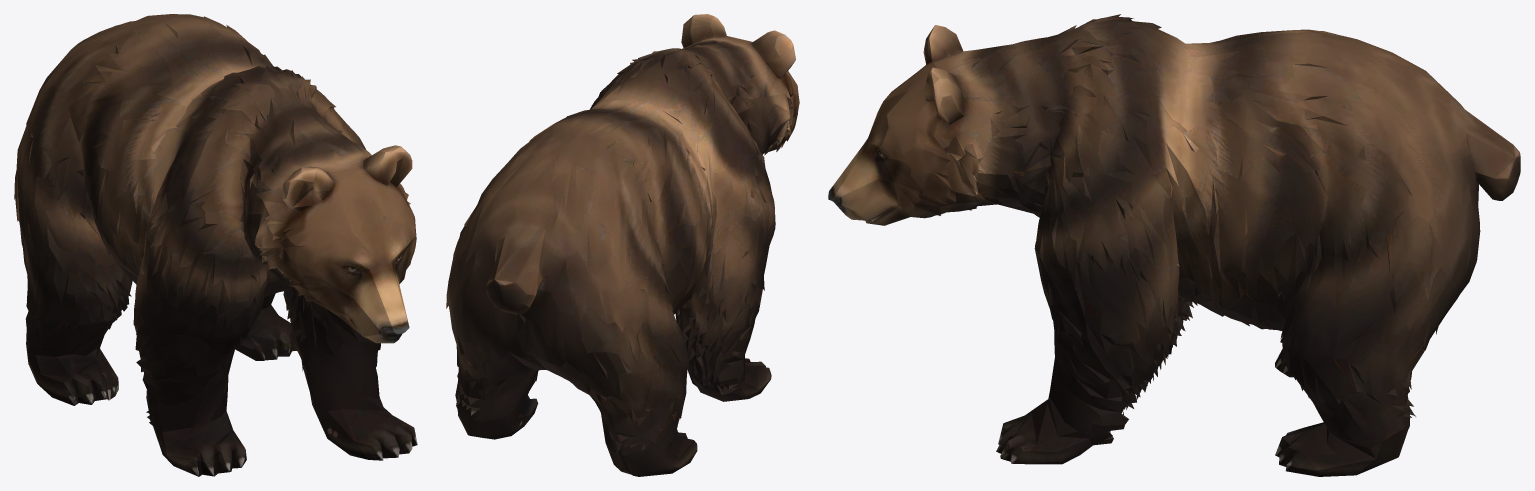
File: orso.glb
3 renders of one model, left to right at view 1: azimuth 30°, elevation 25°; view 2: azimuth 150°, elevation 25°; view 3: azimuth 270°, elevation 25°, orthographic. The views are drawn at different scales.
Bounding box in the file's own units: 0.8305 × 1.19 × 1.9.
Materials: 1 (1 with a texture image).
